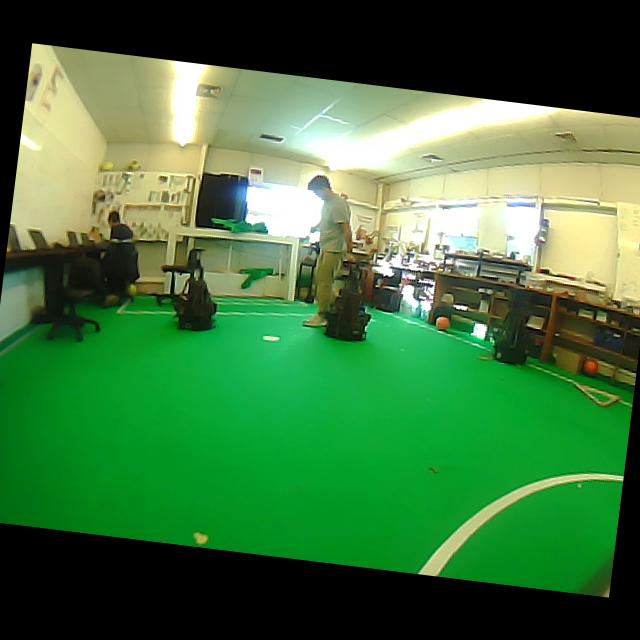ball: (435, 316, 449, 330), (126, 283, 136, 301), (127, 159, 140, 170), (100, 161, 114, 170)
goal: (286, 238, 299, 299), (164, 232, 177, 265)
robot: (324, 262, 372, 340), (173, 248, 215, 330), (493, 307, 527, 364)
